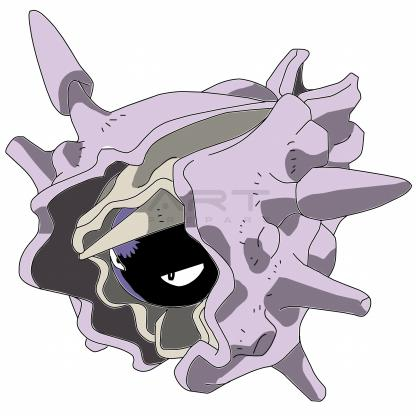Cloyster: (5, 6, 415, 404)
